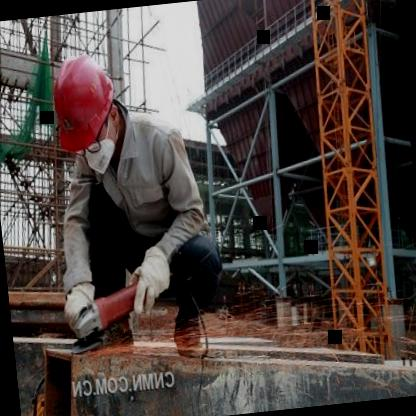helmet: (40, 41, 134, 178)
